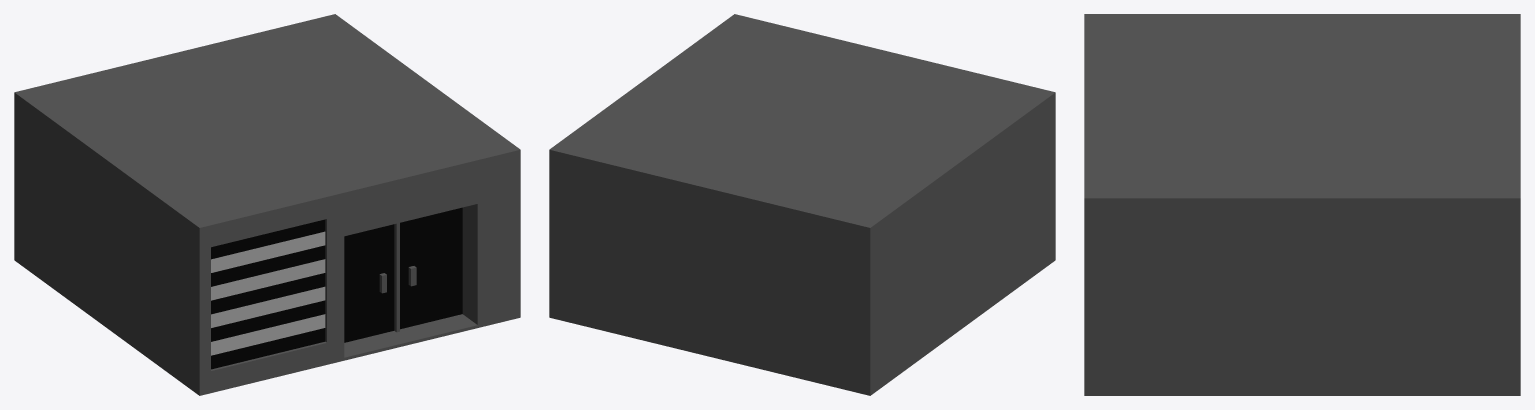
File: BatBalk1.fbx
3 views of the same model, side by side, from view 1: azimuth 30°, elevation 25°; view 2: azimuth 150°, elevation 25°; view 3: azimuth 270°, elevation 25° (orthographic). The views are drawn at different scales.
Parts seen in each view (by area): view 1: Cube; view 2: Cube; view 3: Cube.
Boxes of the visible parts, x1,y1,x2,y2 form: Cube: (14, 14, 520, 395); Cube: (549, 14, 1055, 395); Cube: (1084, 14, 1520, 395).
Bounding box in the file's own units: 2000 × 1000 × 2000.
